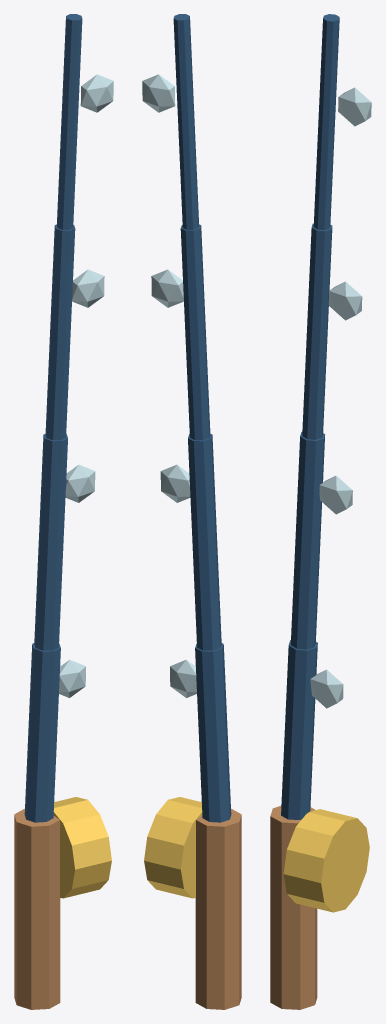
The model's file is rod_carbon.glb.
3 views of the same model, side by side, from view 1: azimuth 30°, elevation 25°; view 2: azimuth 150°, elevation 25°; view 3: azimuth 330°, elevation 25° (orthographic).
Parts seen in each view (by area): view 1: rod_carbon; view 2: rod_carbon; view 3: rod_carbon.
Boxes of the visible parts, x1,y1,x2,y2 form: rod_carbon: [14, 14, 113, 1009]; rod_carbon: [142, 14, 241, 1009]; rod_carbon: [270, 14, 371, 1009].
Bounding box in the file's own units: 0.2108 × 2.02 × 0.18.
